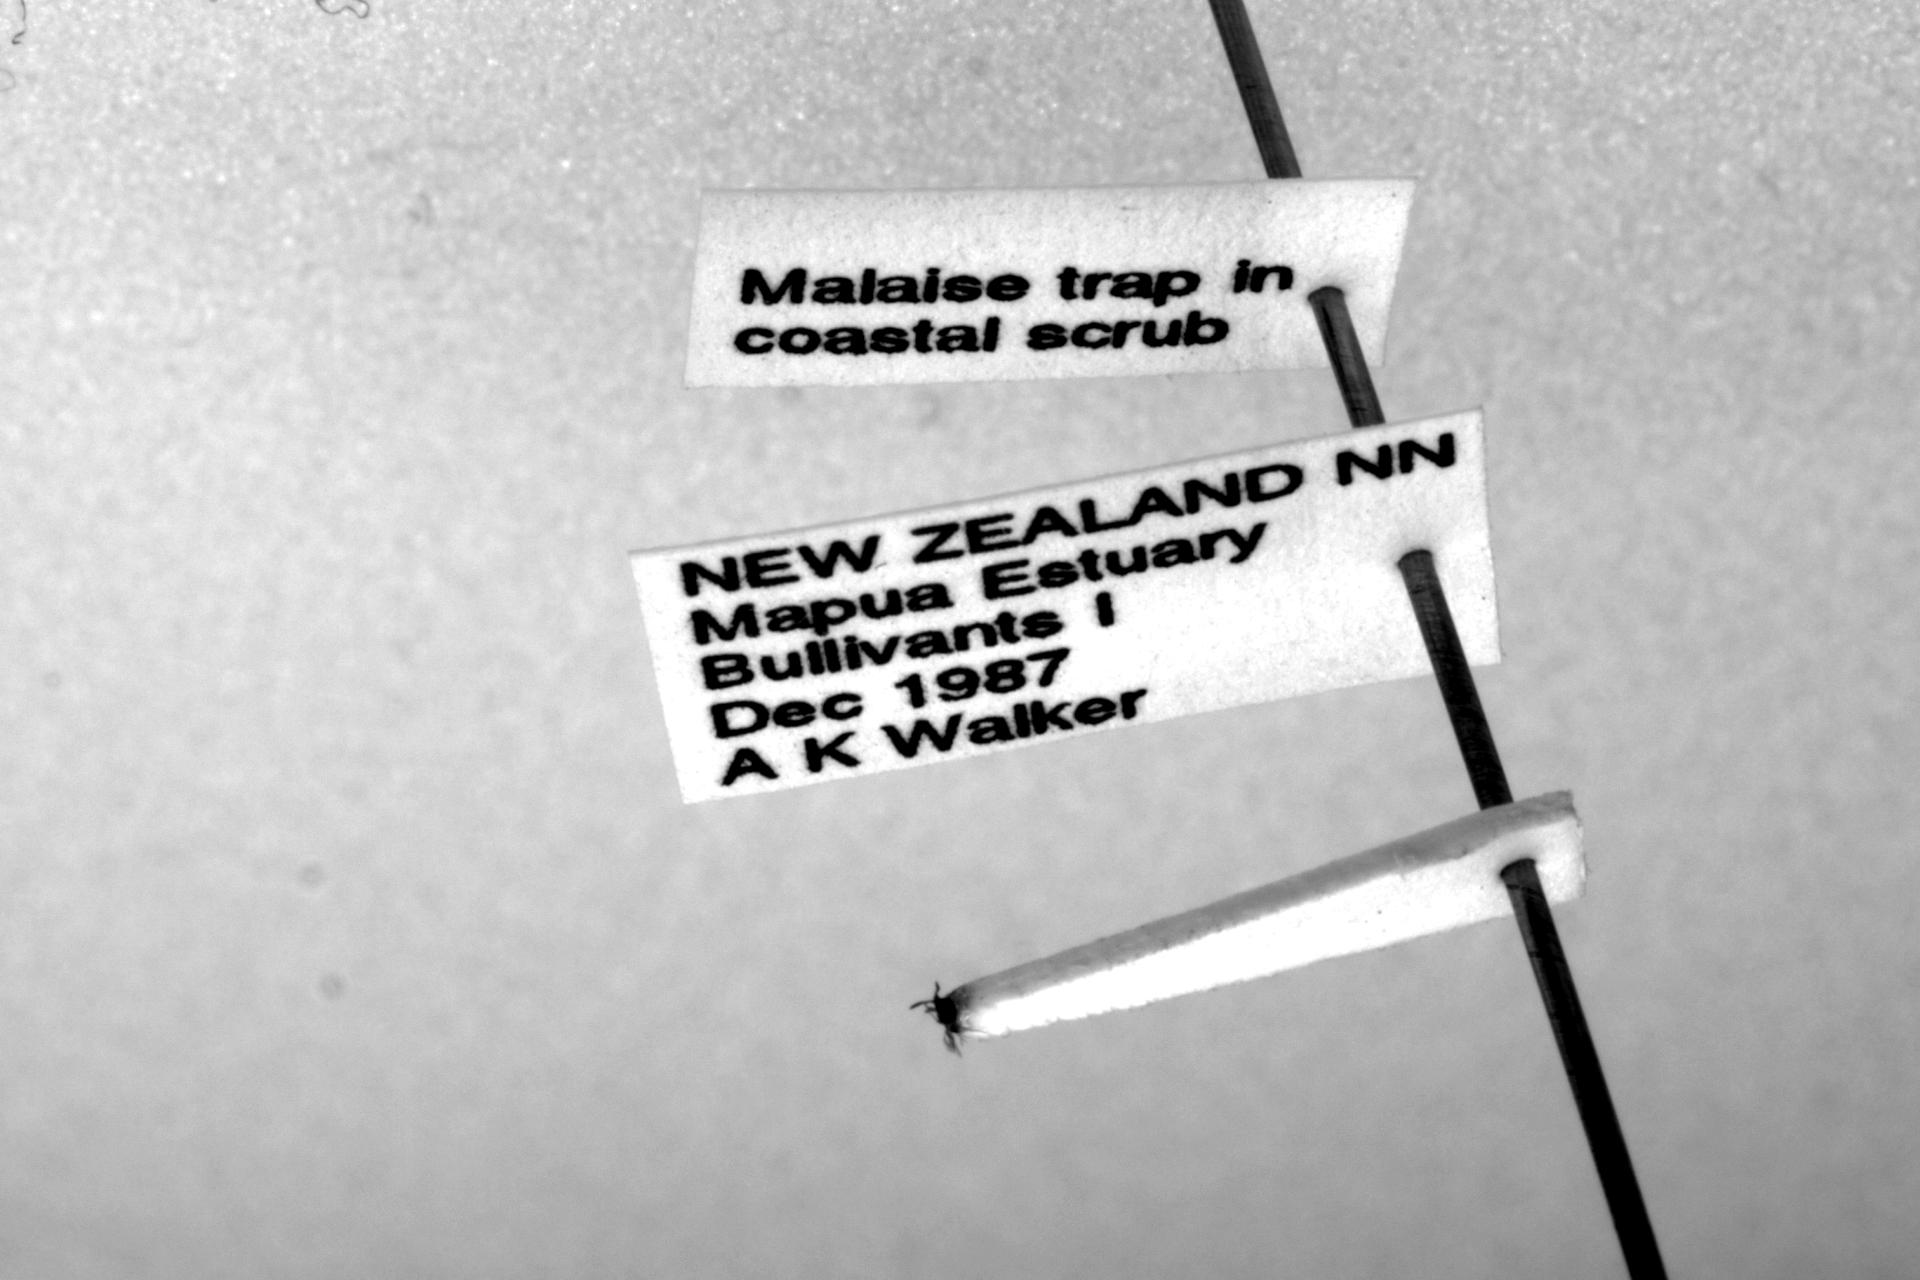typed_label: (634, 409, 1500, 803), (686, 176, 1414, 386)
